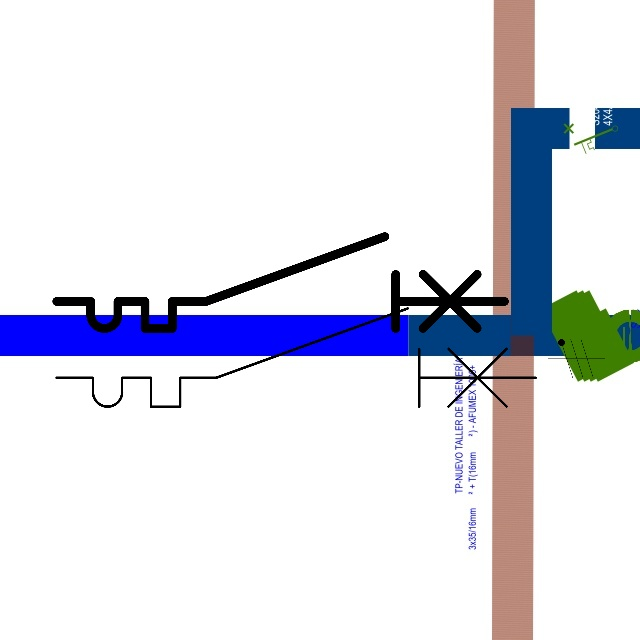interruptor_termomagnetico: (44, 296, 548, 419), (45, 225, 516, 340)
